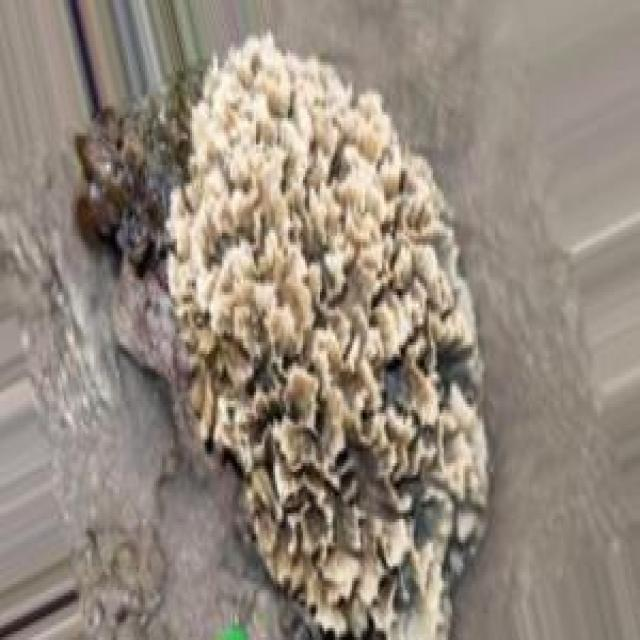Bleached: (170, 33, 487, 638)
